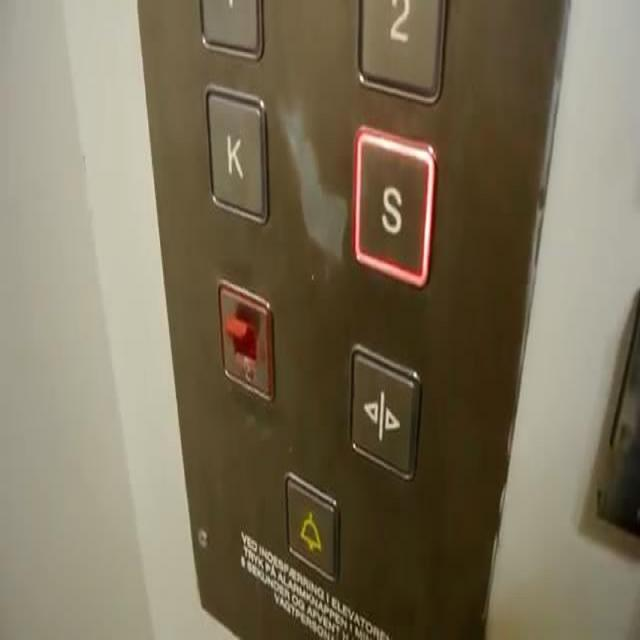2: (351, 0, 450, 109)
K: (198, 77, 272, 232)
S: (348, 121, 438, 292)
alarm: (281, 465, 341, 587)
bt_switch: (215, 274, 276, 406)
open: (344, 336, 423, 492)
